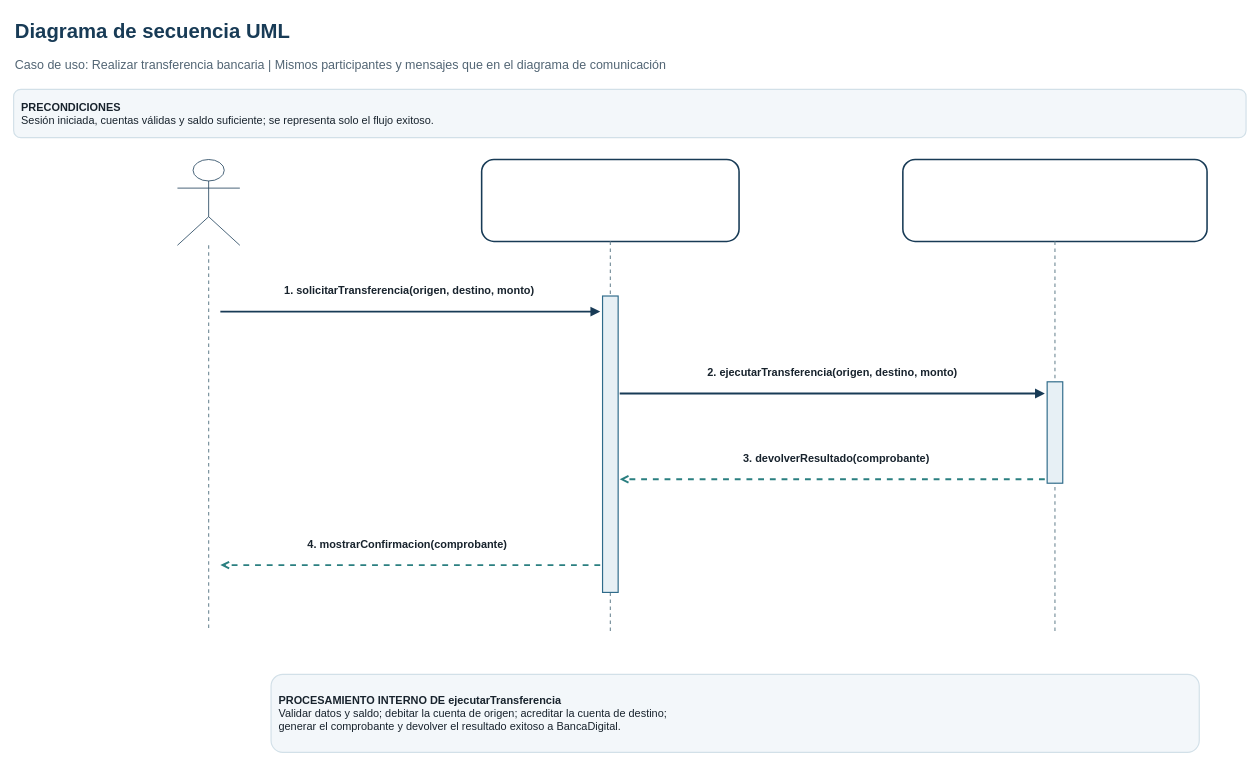
This 1260x766 diagram has some shape labels left out. The shapes that lost their labels are listed below. From the top down, each one's centre as x and y in pixels, then its label:
(x=208, y=202): Cliente
(x=609, y=200): banca : BancaDigital web y aplicación móvil
(x=1054, y=200): transferencias : ServicioTransferencias
